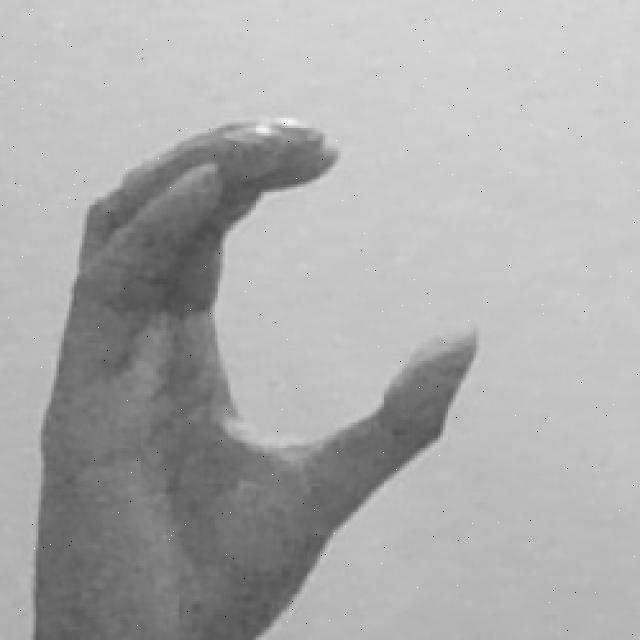C: (28, 115, 479, 640)
